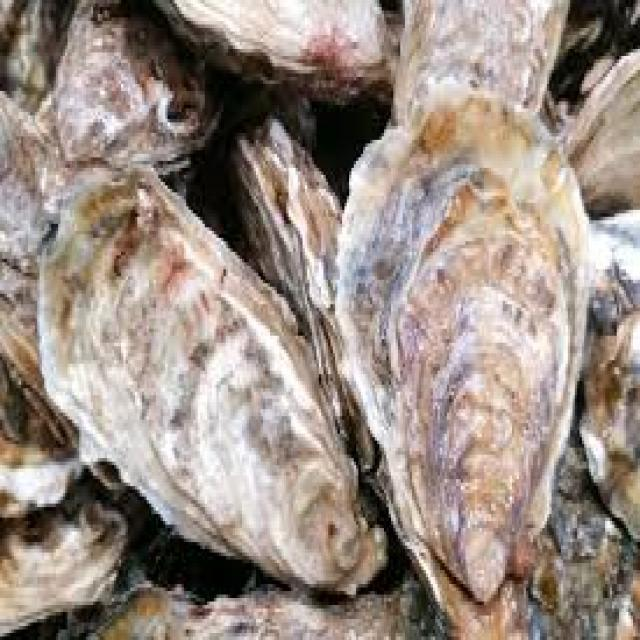Oyster-Closed: (36, 161, 391, 600), (335, 93, 593, 606), (225, 120, 379, 482), (53, 0, 210, 190), (152, 0, 401, 112), (393, 0, 583, 122), (0, 487, 128, 637), (540, 52, 640, 208), (0, 272, 74, 446), (0, 90, 54, 278), (6, 0, 78, 98)
